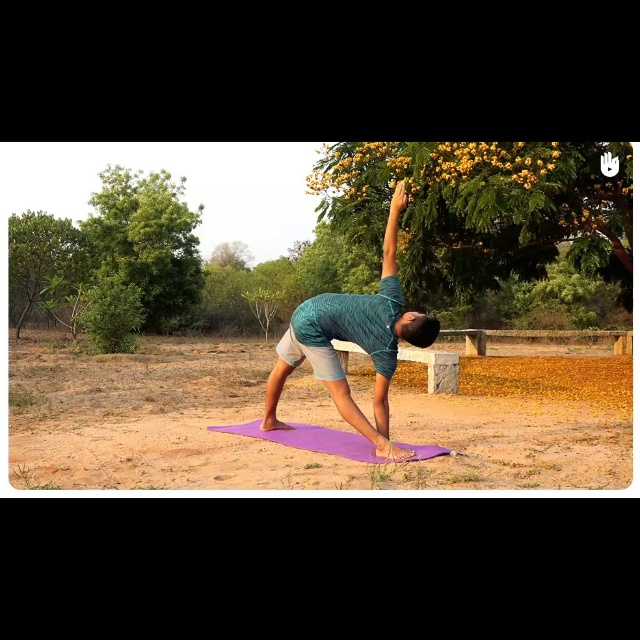Triangle_Pose: (255, 171, 449, 462)
